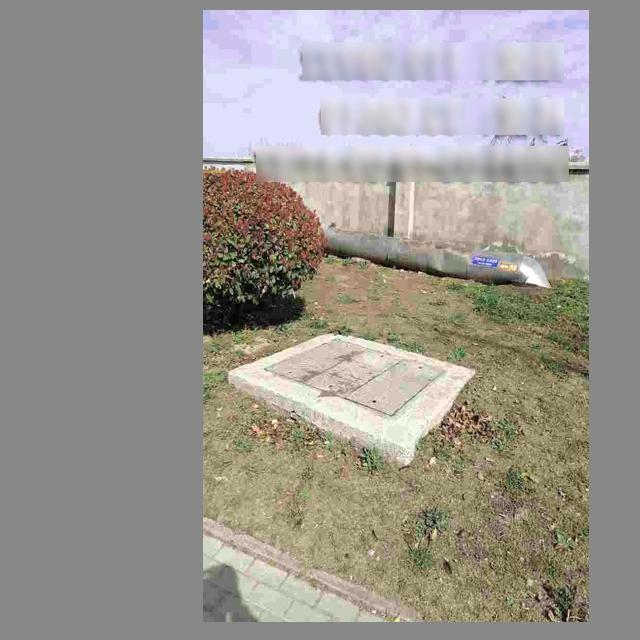good: (262, 337, 449, 420)
